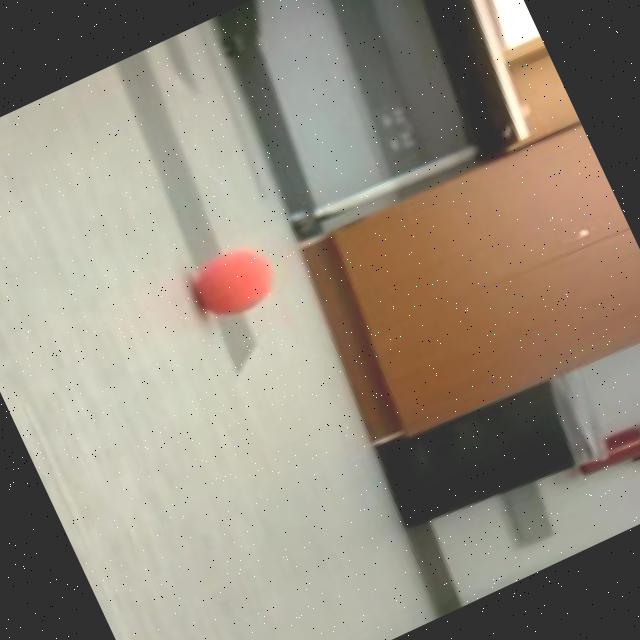ping-pong-ball: (175, 226, 290, 338)
